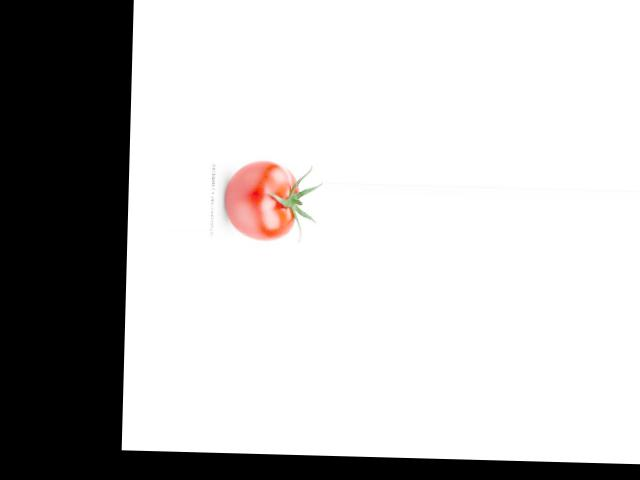tomato: (225, 159, 299, 241)
